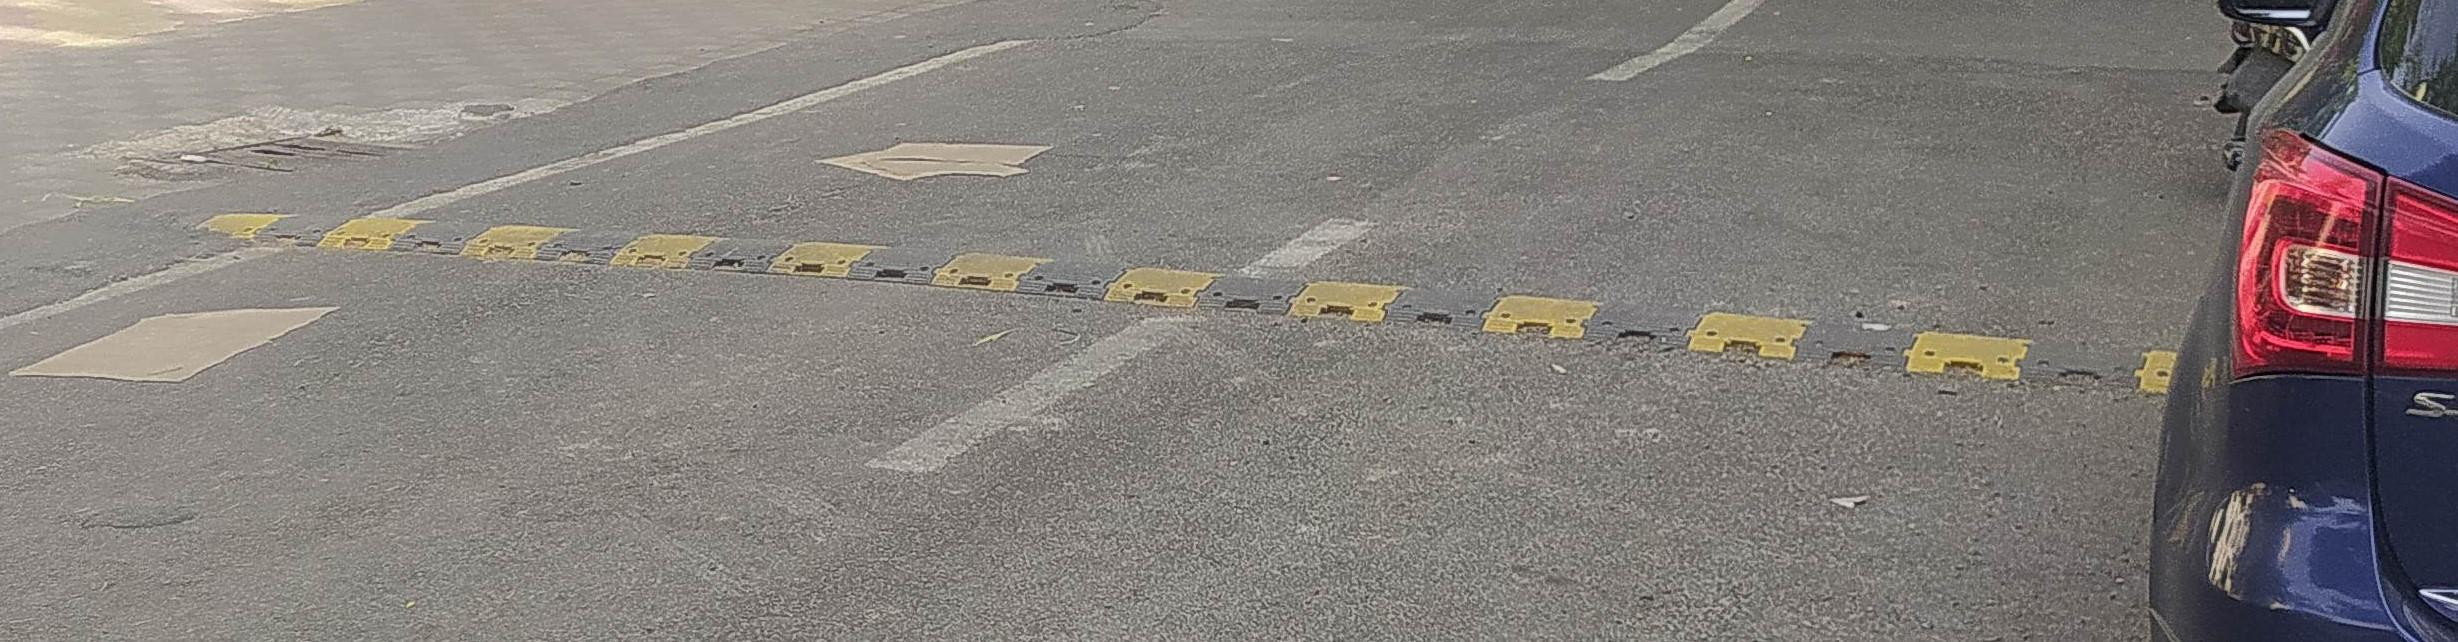speed-bump: (113, 206, 2172, 397)
